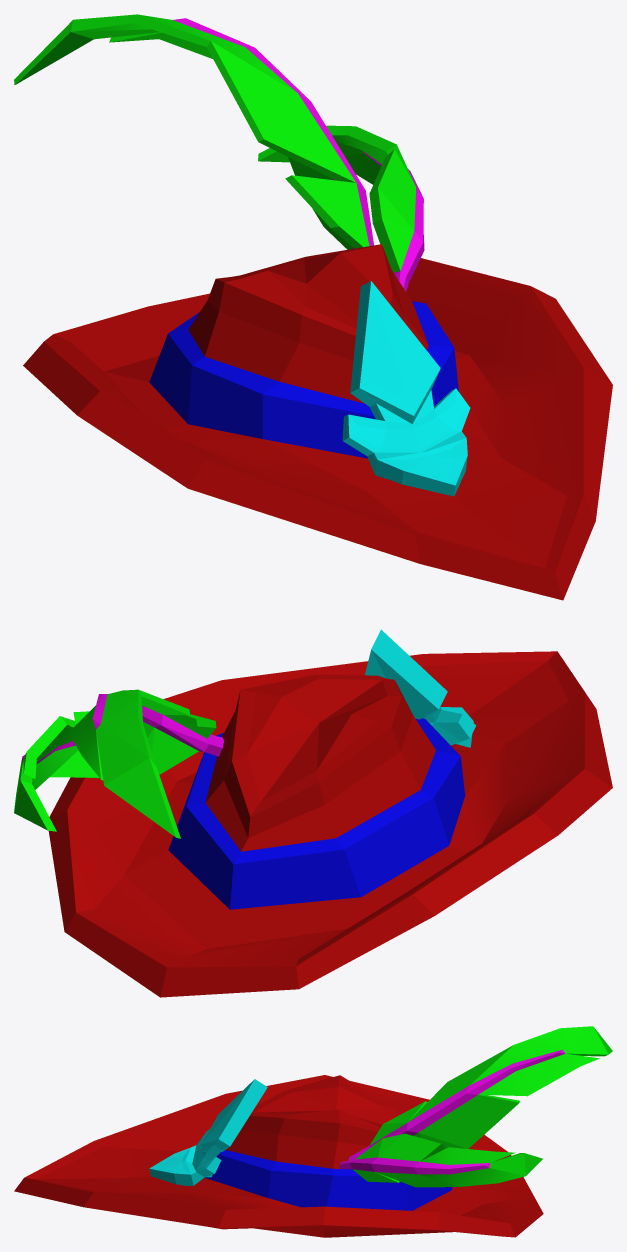
The model's file is Chr_HeadCoverings_BaseHair_Static_11.fbx.
3 renders of one model, top to bottom at view 1: azimuth 30°, elevation 25°; view 2: azimuth 150°, elevation 25°; view 3: azimuth 270°, elevation 25°, orthographic. The views are drawn at different scales.
Visible parts, largest first — view 1: Chr_HeadCoverings_Base_Hair_11; view 2: Chr_HeadCoverings_Base_Hair_11; view 3: Chr_HeadCoverings_Base_Hair_11.
Part boxes in pixels (x1,y1,x2,y2): Chr_HeadCoverings_Base_Hair_11: [14, 14, 612, 600]; Chr_HeadCoverings_Base_Hair_11: [14, 629, 612, 997]; Chr_HeadCoverings_Base_Hair_11: [14, 1026, 612, 1237].
Size of the model in its own units: 54.08 by 32.81 by 93.46.
